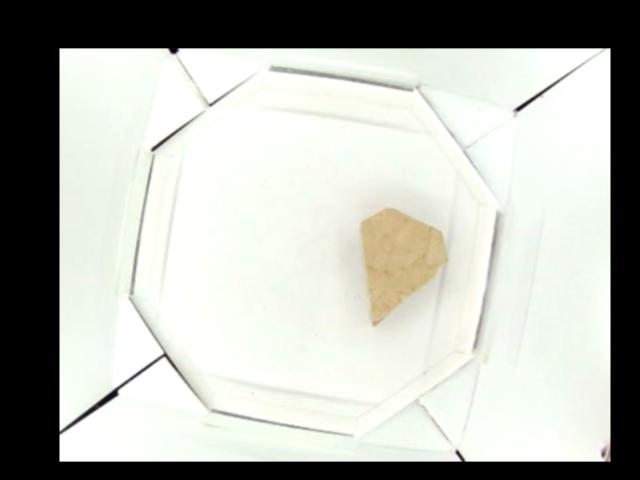China: (358, 205, 450, 325)
